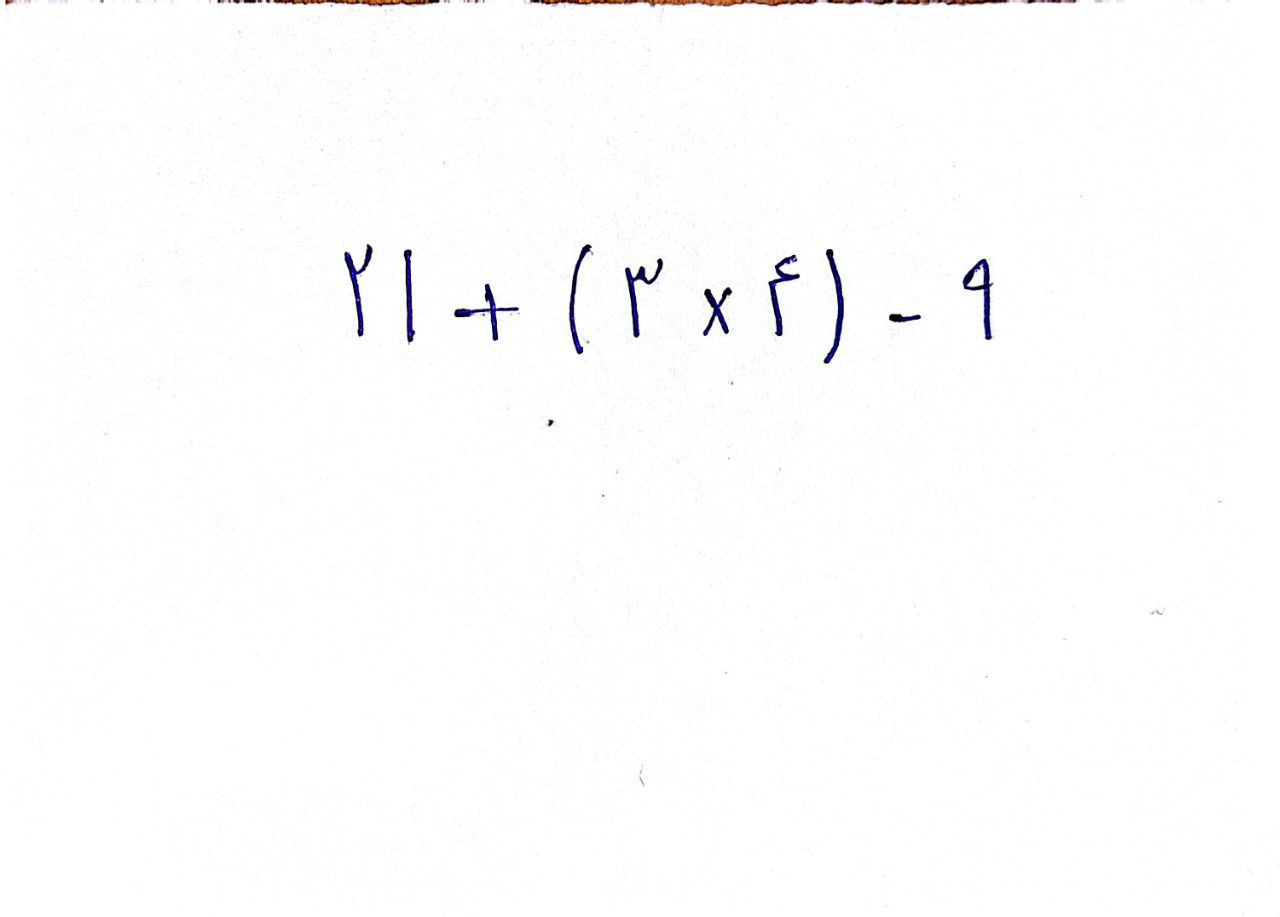character: (451, 283, 521, 350), (819, 248, 849, 370), (622, 257, 665, 340), (958, 256, 997, 345), (564, 241, 593, 357), (342, 243, 375, 342), (769, 252, 800, 339), (700, 285, 736, 339), (401, 248, 419, 344), (881, 309, 925, 322)
